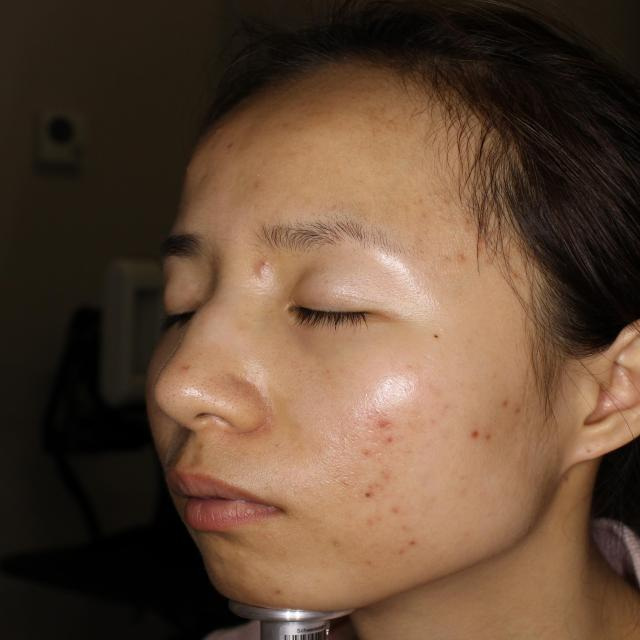pustule: (367, 402, 404, 430), (465, 424, 494, 448), (254, 252, 273, 286), (366, 465, 391, 488), (500, 396, 526, 418), (404, 533, 423, 555)
